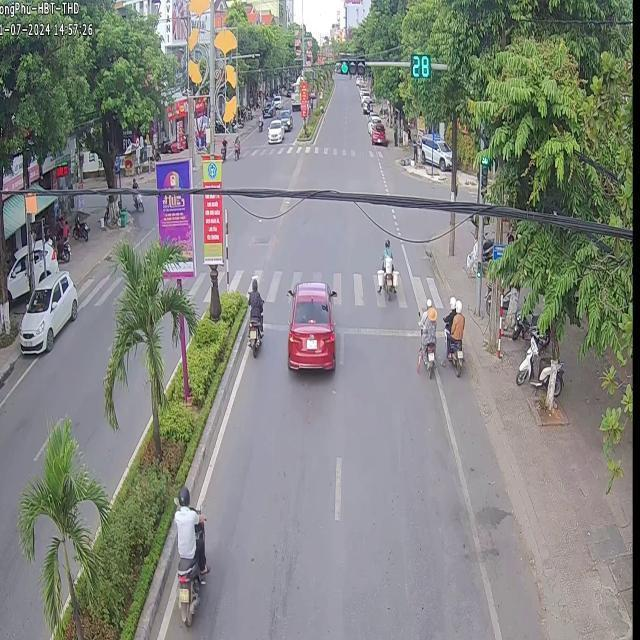car: (17, 269, 77, 351), (286, 280, 334, 369), (266, 118, 283, 142), (369, 120, 386, 144)
green_light: (338, 54, 365, 77), (408, 56, 431, 78), (480, 149, 487, 187)
motobike: (172, 485, 207, 625), (374, 238, 398, 296), (247, 274, 262, 356), (420, 340, 434, 376), (448, 340, 462, 376)
stop_line: (336, 325, 419, 335), (262, 321, 287, 329)
